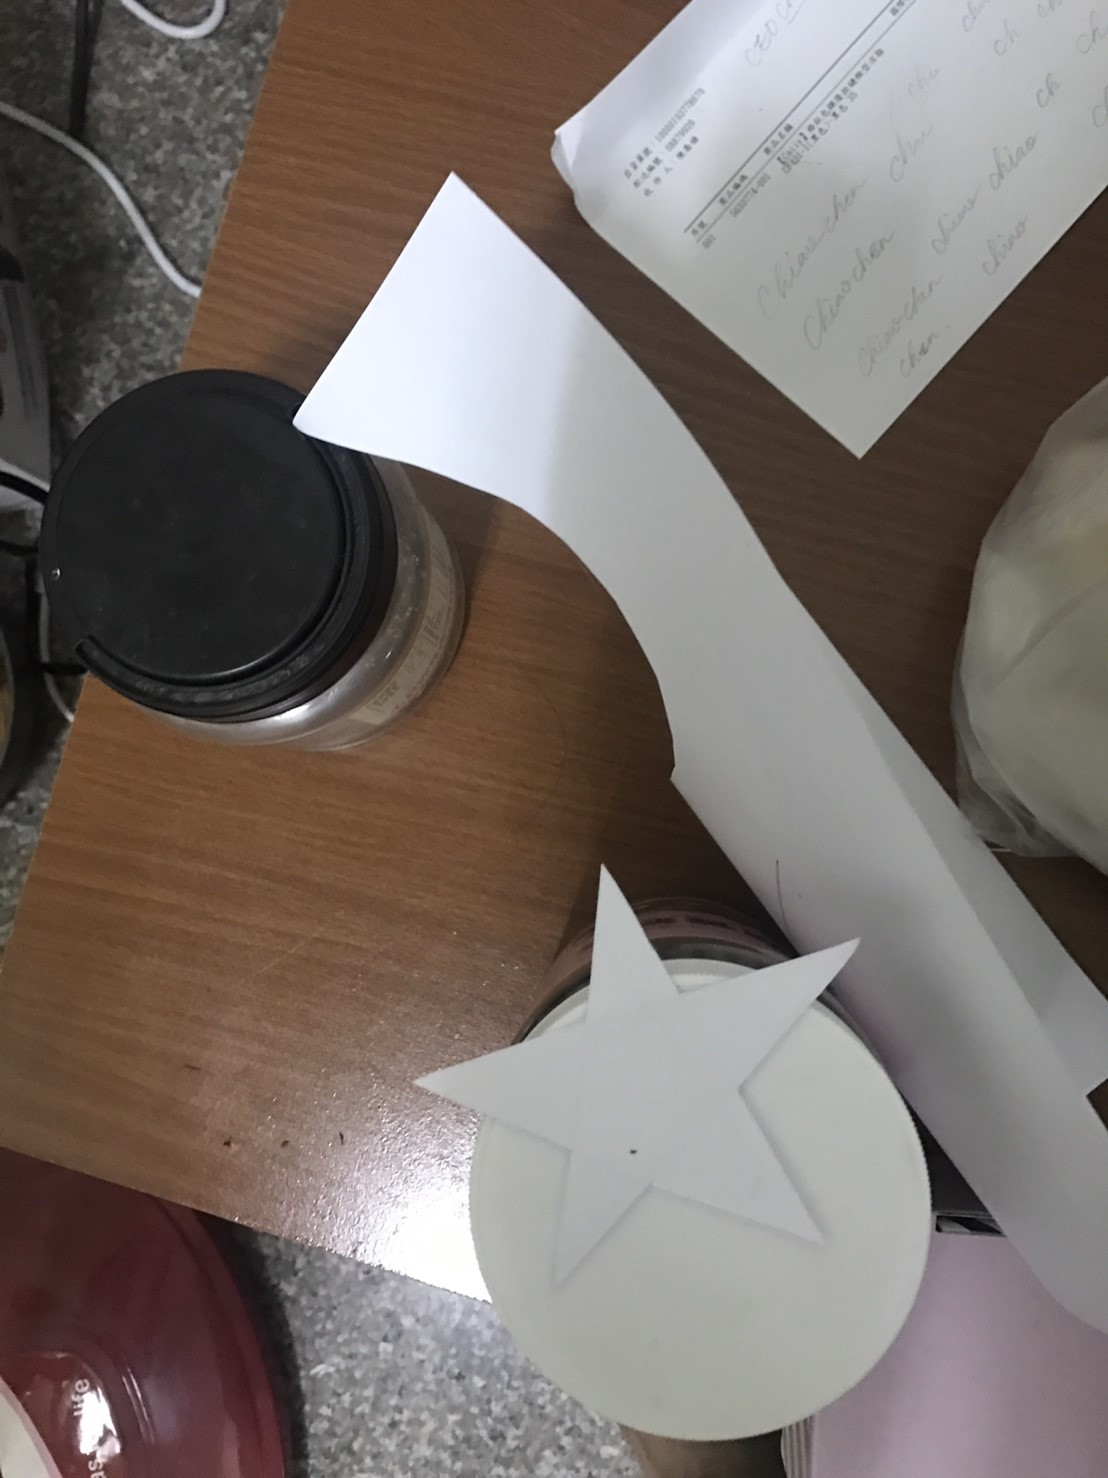star: (400, 857, 960, 1307)
